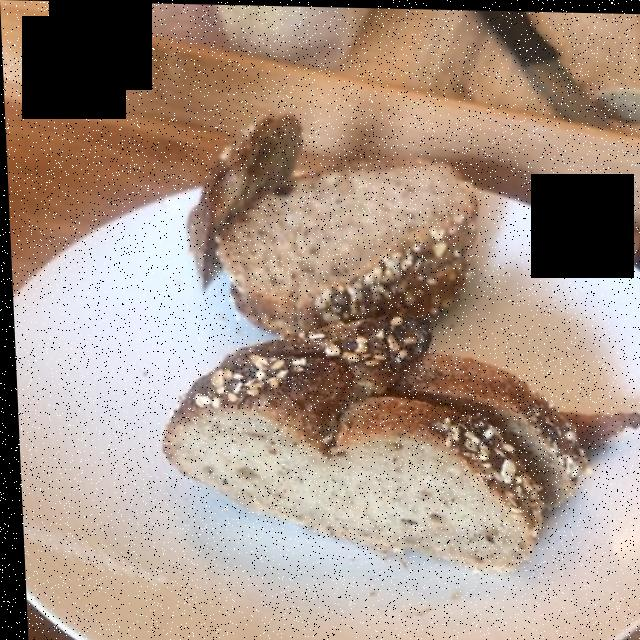bread-wholemeal: (170, 148, 612, 562)
